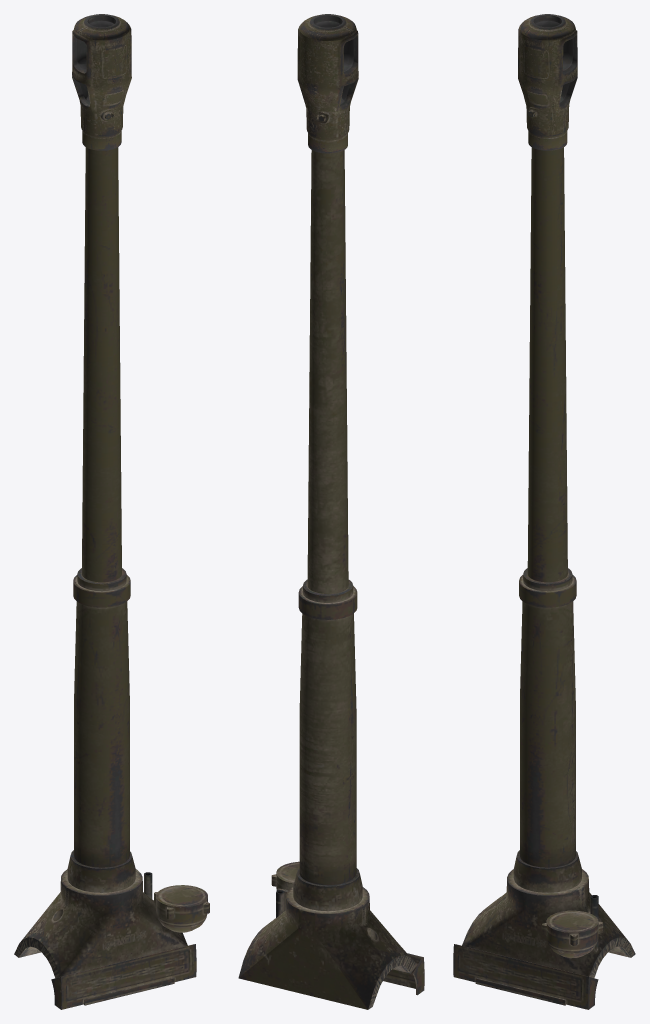
File: Gun_03.glb
The picture shows the model from 3 angles, left to right: view 1: azimuth 30°, elevation 25°; view 2: azimuth 150°, elevation 25°; view 3: azimuth 330°, elevation 25°; orthographic projection. The views are drawn at different scales.
Visible parts, largest first — view 1: set_0_group_0; view 2: set_0_group_0; view 3: set_0_group_0.
Boxes of the visible parts, left/top/right/bottom form: set_0_group_0: left=14, top=14, right=209, bottom=1009; set_0_group_0: left=238, top=14, right=424, bottom=1009; set_0_group_0: left=453, top=14, right=635, bottom=1009.
Size of the model in its own units: 1.11 by 7.11 by 0.8816.
1 material, 1 textured.
